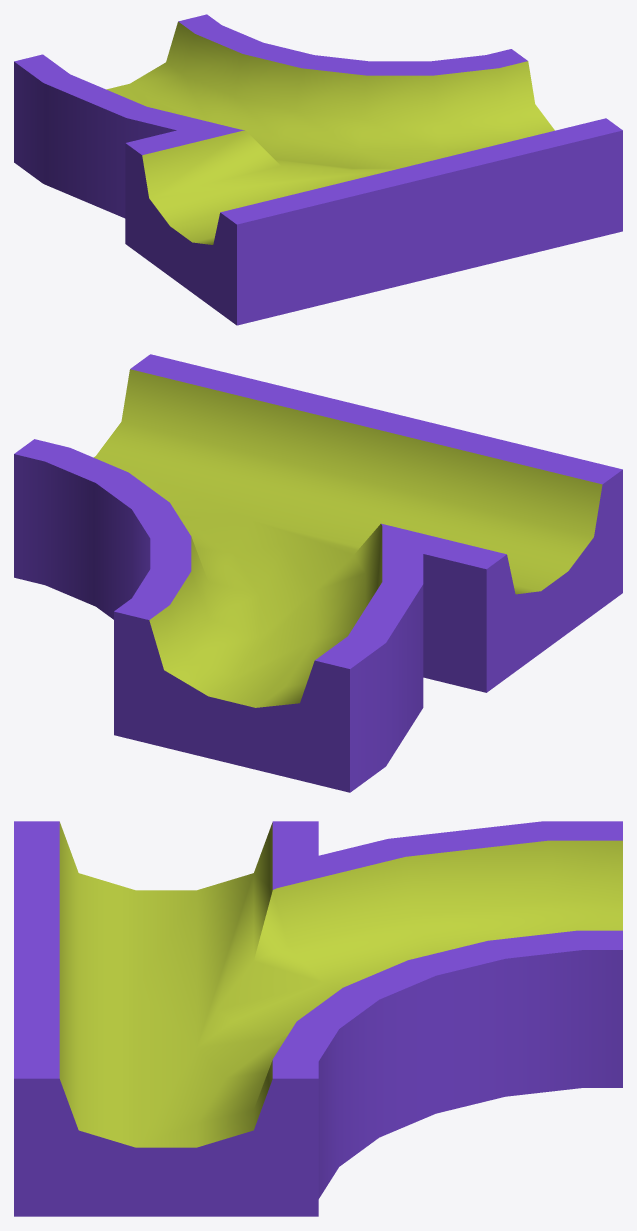
The model's file is split_right-col.dae.
3 renders of one model, top to bottom at view 1: azimuth 30°, elevation 25°; view 2: azimuth 150°, elevation 25°; view 3: azimuth 270°, elevation 25°, orthographic. The views are drawn at different scales.
Parts seen in each view (by area): view 1: split_right-col; view 2: split_right-col; view 3: split_right-col.
Boxes of the visible parts, x1,y1,x2,y2 form: split_right-col: [14, 14, 622, 325]; split_right-col: [14, 354, 622, 792]; split_right-col: [14, 821, 622, 1216].
Size of the model in its own units: 2 by 2 by 0.5.
